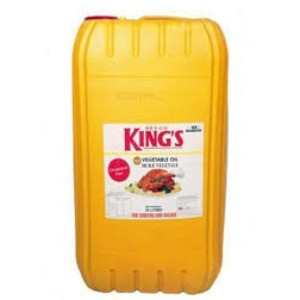vegetable oil_brain food: (76, 79, 225, 240)
